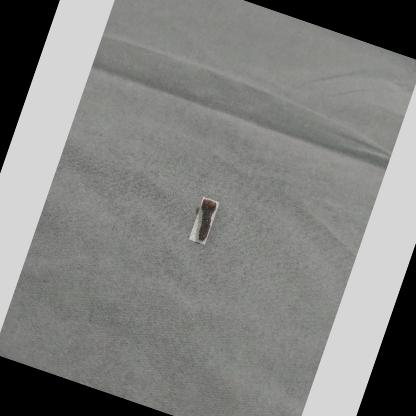sedang: (196, 200, 216, 244)
